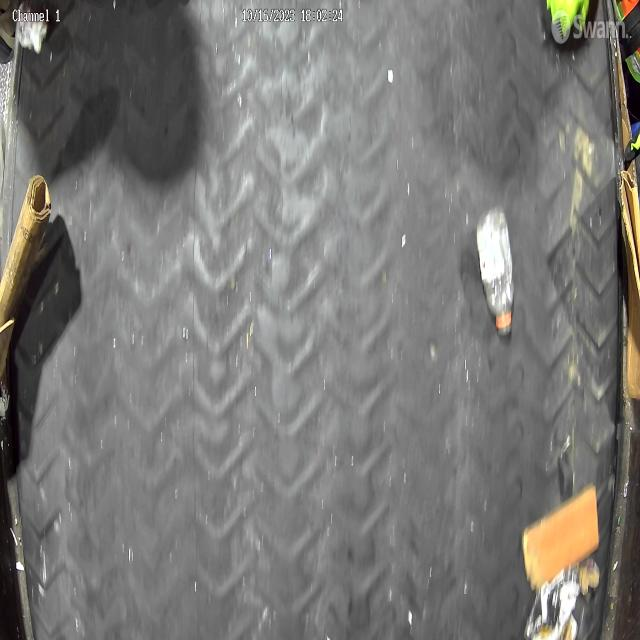plastic_bottle: (476, 205, 516, 336)
